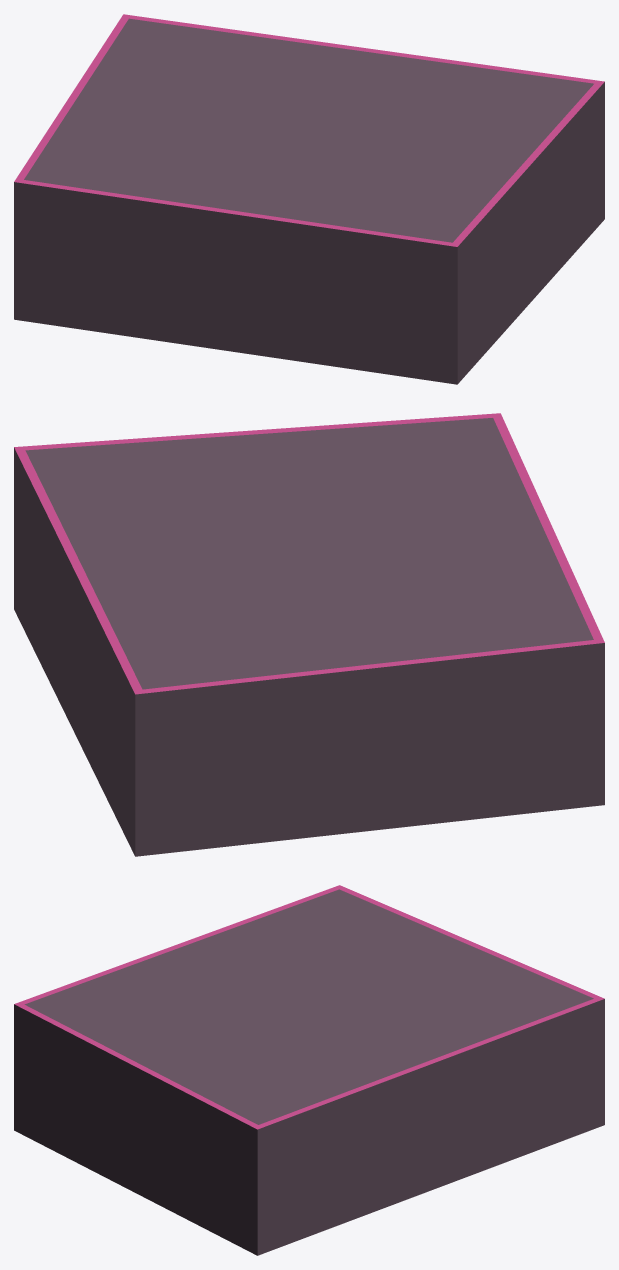
File: way-1351248939.glb
3 renders of one model, top to bottom at view 1: azimuth 30°, elevation 25°; view 2: azimuth 150°, elevation 25°; view 3: azimuth 270°, elevation 25°, orthographic. The views are drawn at different scales.
Visible parts, largest first — view 1: way-1351248939; view 2: way-1351248939; view 3: way-1351248939.
Part boxes in pixels (bbox=[...]): way-1351248939: bbox=[14, 14, 604, 384]; way-1351248939: bbox=[14, 413, 604, 856]; way-1351248939: bbox=[14, 885, 604, 1255].
Size of the model in its own units: 12.46 by 3 by 12.72.
